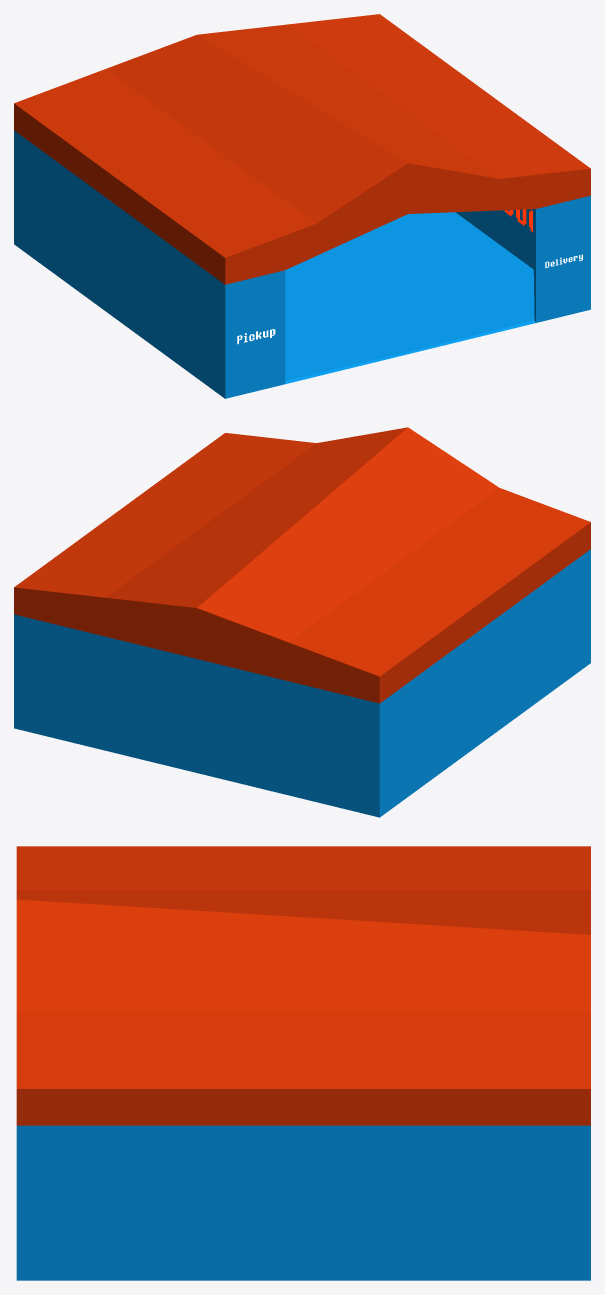
File: crypto-building-again-less-light.gltf
3 renders of one model, top to bottom at view 1: azimuth 30°, elevation 25°; view 2: azimuth 150°, elevation 25°; view 3: azimuth 270°, elevation 25°, orthographic. The views are drawn at different scales.
Parts seen in each view (by area): view 1: Cube.001, Cube; view 2: Cube.001, Cube; view 3: Cube.001, Cube.
Part boxes in pixels (box(x1,y1,x2,y2)): Cube.001: box(14, 14, 590, 284); Cube: box(14, 130, 590, 398); Cube.001: box(14, 427, 590, 703); Cube: box(14, 549, 590, 817); Cube.001: box(16, 846, 590, 1125); Cube: box(16, 1125, 590, 1280).
Bounding box in the file's own units: 13.38 × 6.68 × 13.45.
